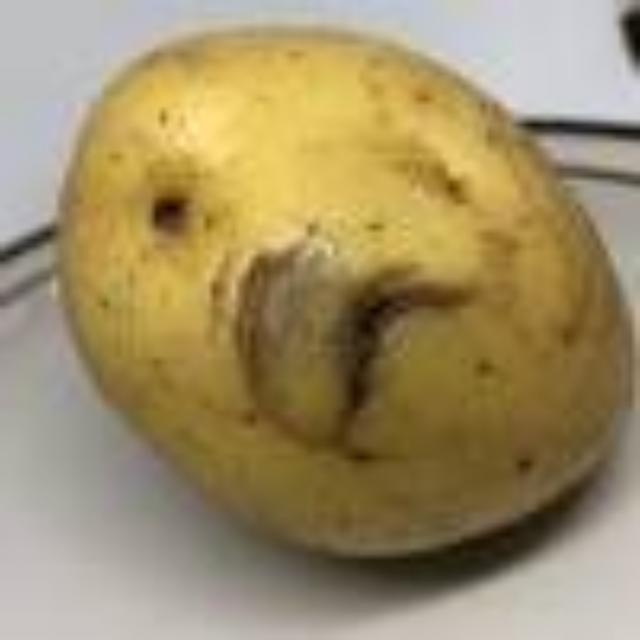Damaged potato: (18, 6, 640, 608)
